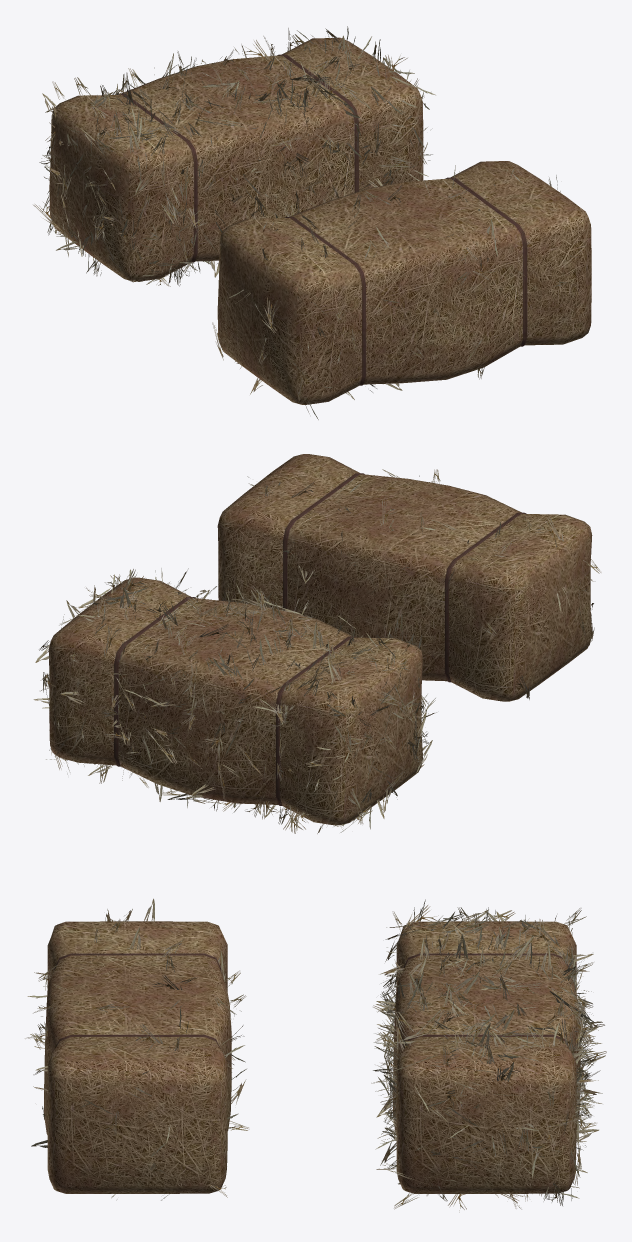
The model's file is hay.glb.
3 renders of one model, top to bottom at view 1: azimuth 30°, elevation 25°; view 2: azimuth 150°, elevation 25°; view 3: azimuth 270°, elevation 25°, orthographic. The views are drawn at different scales.
Visible parts, largest first — view 1: Object_2; view 2: Object_2; view 3: Object_2.
Part boxes in pixels (<box>): Object_2: <box>33,26,591,419</box>; Object_2: <box>33,454,601,833</box>; Object_2: <box>25,898,606,1212</box>.
Size of the model in its own units: 1.12 by 0.5797 by 1.51.
1 material, 1 textured.
